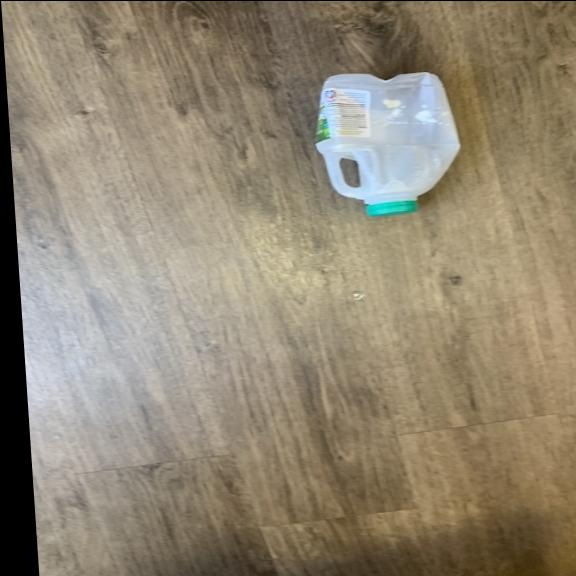Plastik: (306, 64, 471, 216)
